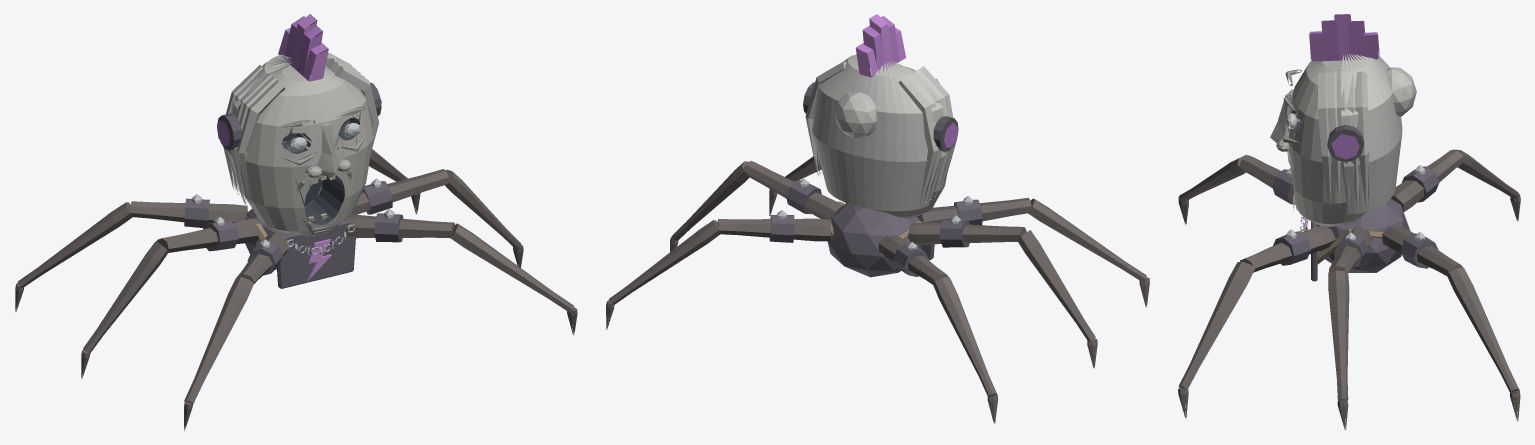
The model's file is SpiderMomPunk.glb.
3 renders of one model, left to right at view 1: azimuth 30°, elevation 25°; view 2: azimuth 150°, elevation 25°; view 3: azimuth 270°, elevation 25°, orthographic. The views are drawn at different scales.
Parts seen in each view (by area): view 1: Head, Body, ArmL, LegR, ArmR, LegL; view 2: Head, Body, LegL, ArmR, LegR, ArmL; view 3: Head, Body, ArmL, LegL, LegR, ArmR.
Boxes of the visible parts, x1,y1,x2,y2 form: Head: (217, 14, 381, 236); Body: (81, 169, 523, 378); ArmL: (345, 209, 577, 334); LegR: (15, 194, 247, 311); ArmR: (184, 231, 291, 430); LegL: (369, 149, 420, 214); Head: (803, 14, 958, 218); Body: (670, 161, 1097, 368); LegL: (606, 210, 830, 329); ArmR: (919, 196, 1149, 307); LegR: (878, 235, 997, 423); ArmL: (769, 156, 846, 215); Head: (1270, 14, 1416, 226); Body: (1300, 198, 1410, 429); ArmL: (1178, 225, 1335, 417); LegL: (1382, 225, 1520, 421); LegR: (1391, 149, 1520, 221); ArmR: (1178, 154, 1295, 225).
Bounding box in the file's own units: 6.21 × 4.23 × 4.11.
